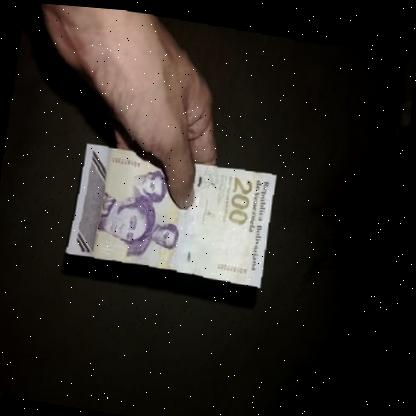two_hundred-front-vef: (66, 138, 282, 284)
